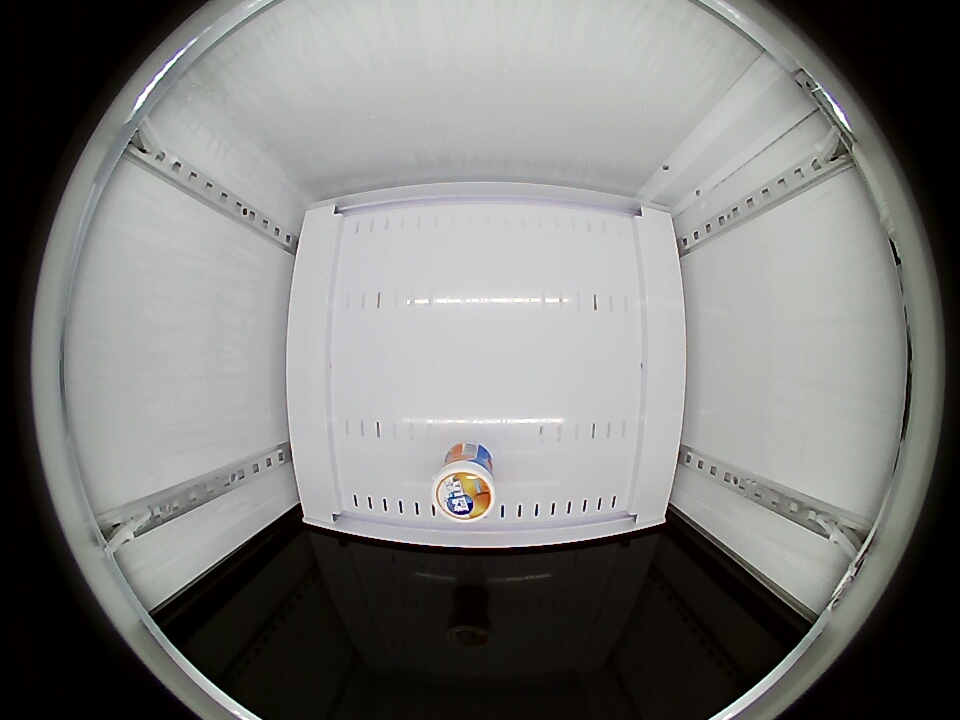yida: (432, 457, 497, 523)
